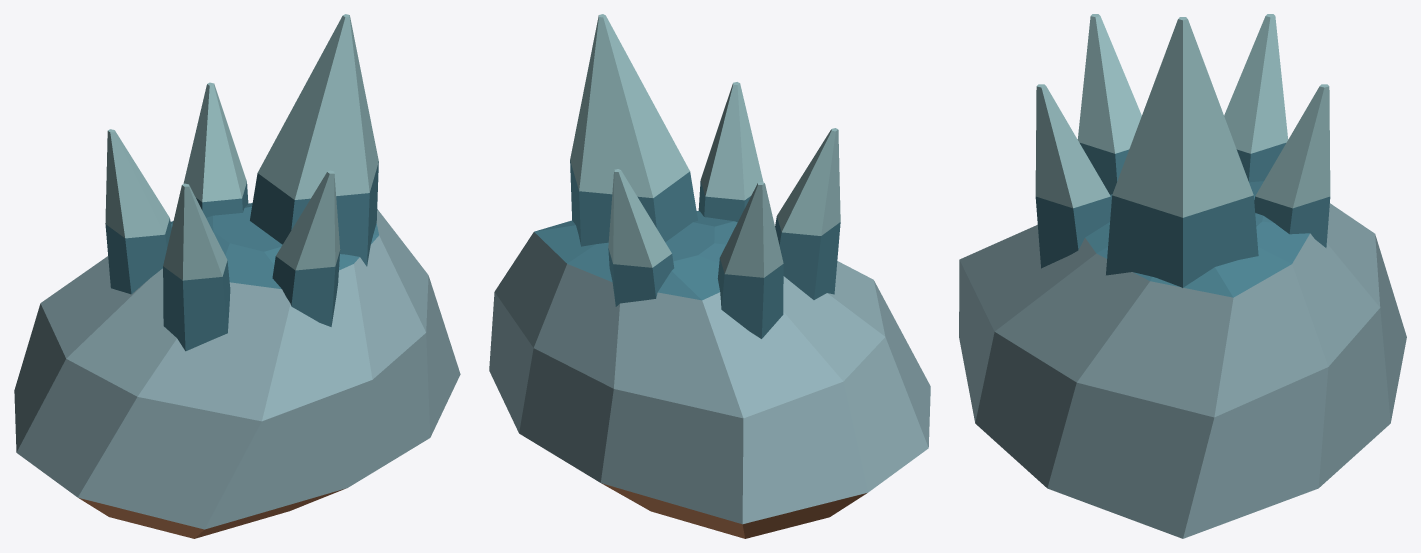
Rendered from polar-flora.glb.
The picture shows the model from 3 angles, left to right: view 1: azimuth 30°, elevation 25°; view 2: azimuth 150°, elevation 25°; view 3: azimuth 270°, elevation 25°; orthographic projection. The views are drawn at different scales.
Parts seen in each view (by area): view 1: stone, feature; view 2: stone, feature; view 3: stone, feature.
Boxes of the visible parts, box(x1,y1,x2,y2) form: stone: box(14, 203, 460, 538); feature: box(105, 14, 378, 351); stone: box(489, 211, 930, 538); feature: box(570, 14, 840, 338); stone: box(959, 181, 1406, 538); feature: box(1035, 14, 1330, 287).
Bounding box in the file's own units: 1.93 × 1.91 × 1.54.
